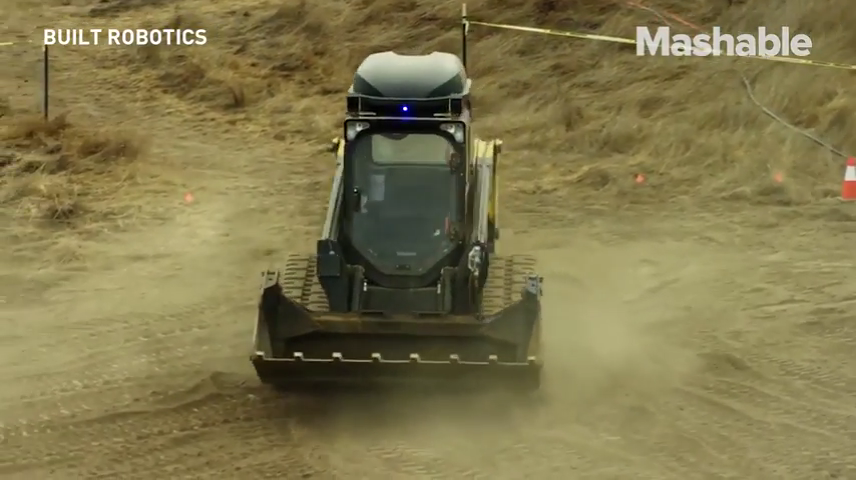con_eq: (245, 42, 545, 386)
